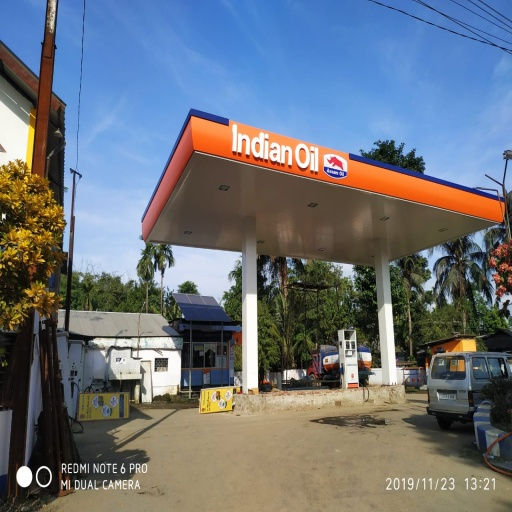roof: (140, 105, 510, 284)
